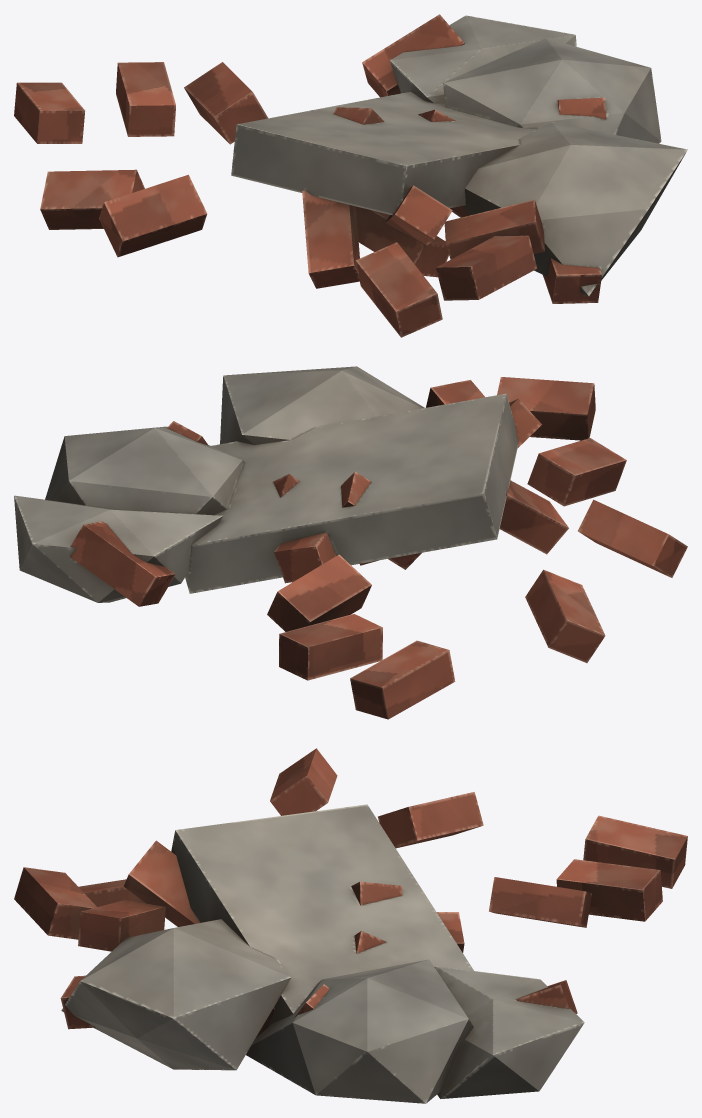
Rendered from Escombros_Ladrillos.glb.
The picture shows the model from 3 angles, top to bottom: view 1: azimuth 30°, elevation 25°; view 2: azimuth 150°, elevation 25°; view 3: azimuth 270°, elevation 25°; orthographic projection.
Parts seen in each view (by area): view 1: Escombros_Ladrillos; view 2: Escombros_Ladrillos; view 3: Escombros_Ladrillos.
Part boxes in pixels (bbox=[...]): Escombros_Ladrillos: bbox=[14, 14, 687, 337]; Escombros_Ladrillos: bbox=[14, 366, 687, 719]; Escombros_Ladrillos: bbox=[14, 748, 687, 1103].
Size of the model in its own units: 5.66 by 1.5 by 5.76.
Materials: 1 (1 with a texture image).
